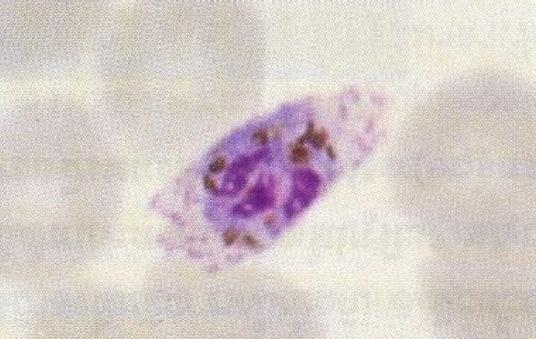Infected: (138, 61, 391, 248)
Uninfected: (270, 175, 439, 339), (0, 83, 143, 269), (415, 55, 536, 248)
